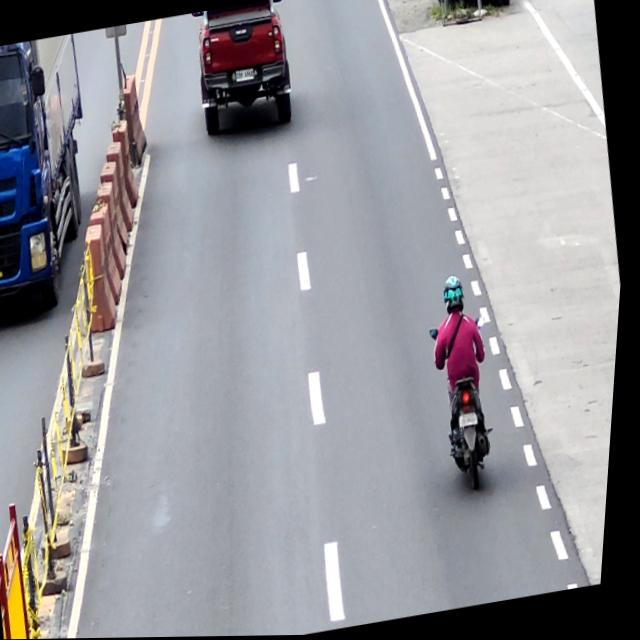Car: (185, 0, 304, 139)
License-Plate: (464, 413, 485, 429), (235, 68, 256, 83)
Motorcycle: (423, 314, 516, 499)
